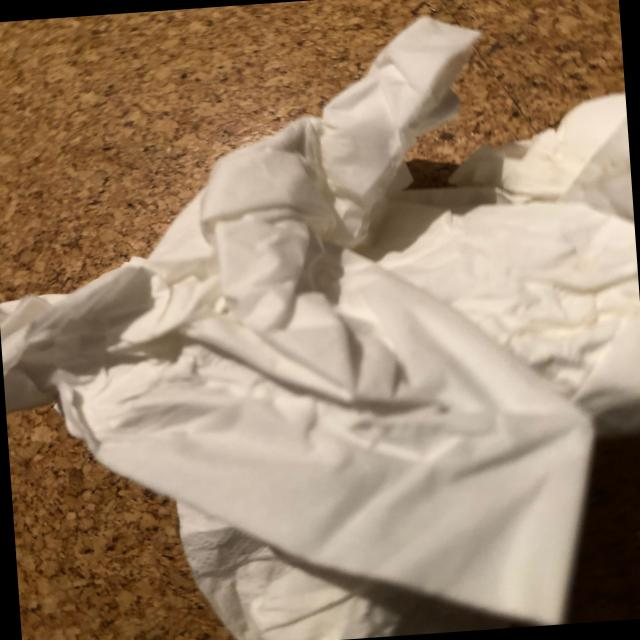organic waste: (0, 7, 609, 640), (157, 92, 640, 640)
